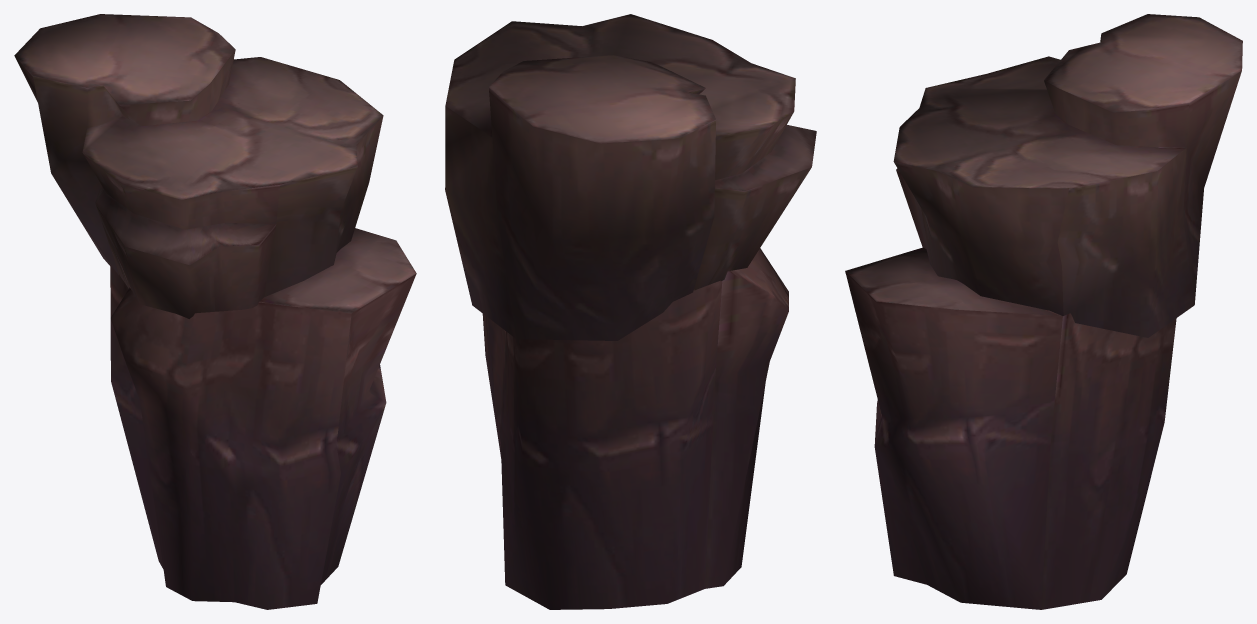
The model's file is huoshan_shitou05.fbx.
The picture shows the model from 3 angles, left to right: view 1: azimuth 30°, elevation 25°; view 2: azimuth 150°, elevation 25°; view 3: azimuth 270°, elevation 25°; orthographic projection. The views are drawn at different scales.
Parts seen in each view (by area): view 1: huoshan_shitou05; view 2: huoshan_shitou05; view 3: huoshan_shitou05.
Boxes of the visible parts, x1,y1,x2,y2 form: huoshan_shitou05: (14,14,416,609); huoshan_shitou05: (445,14,816,609); huoshan_shitou05: (845,14,1242,609).
Size of the model in its own units: 3.04 by 5.14 by 3.84.
